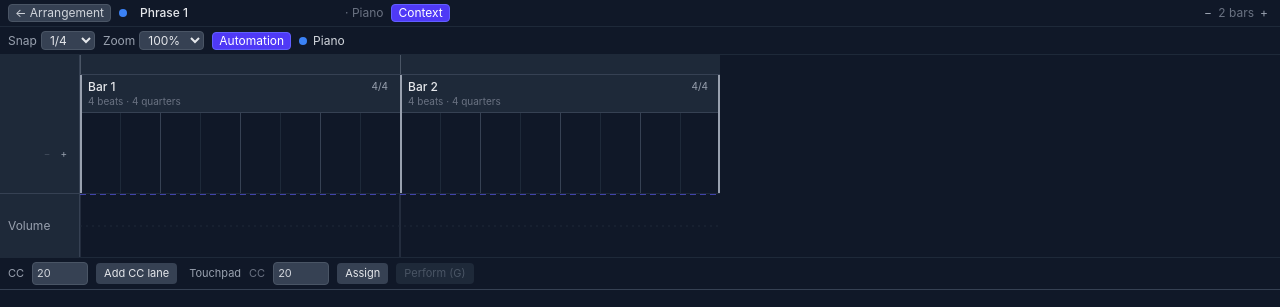
Test case: ChordTimeline › insert bars › cancels without touching the phrase
The image size is (1280, 307).
Right-click the element with test id "timeline-ruler" at (400, 65), box x1=80 y1=55 x2=720 y2=75
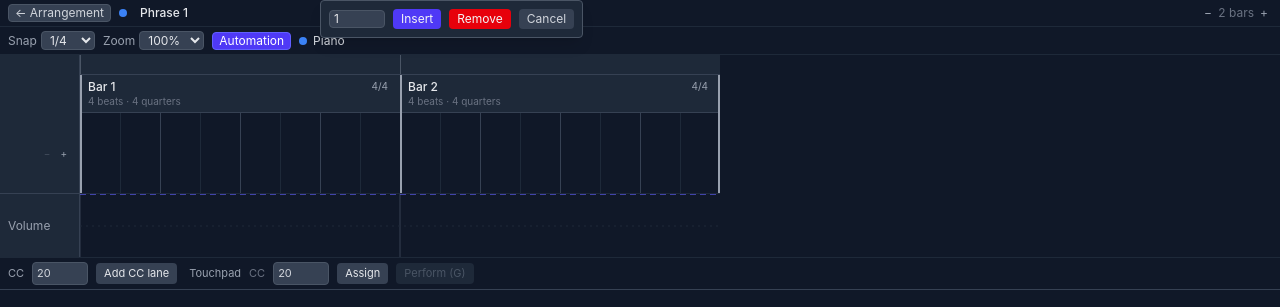
Click the button with test id "bar-menu-cancel" at (546, 19), box x1=519 y1=9 x2=574 y2=29
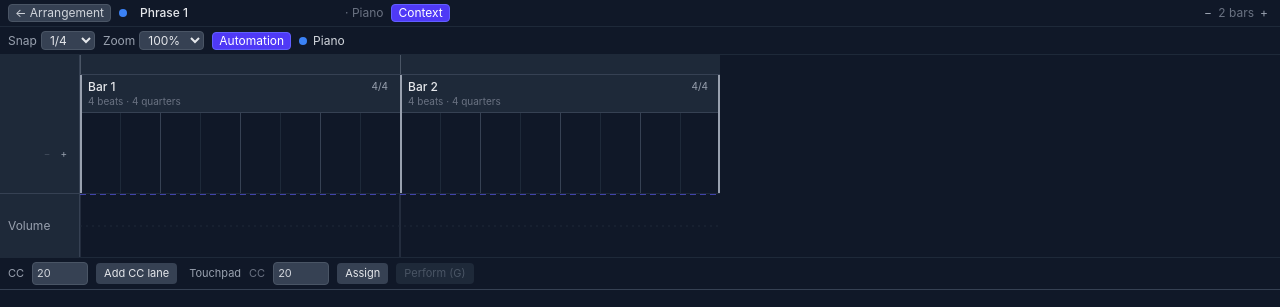
Now the element with test id "bar-menu" is gone
